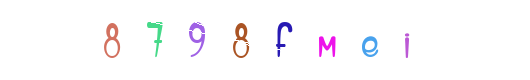7: (138, 0, 218, 80)
8: (116, 0, 196, 80), (211, 0, 291, 80)
9: (205, 0, 285, 80)
E: (286, 0, 366, 80)
F: (225, 0, 305, 80)
I: (329, 0, 409, 80)
M: (242, 0, 322, 80)
